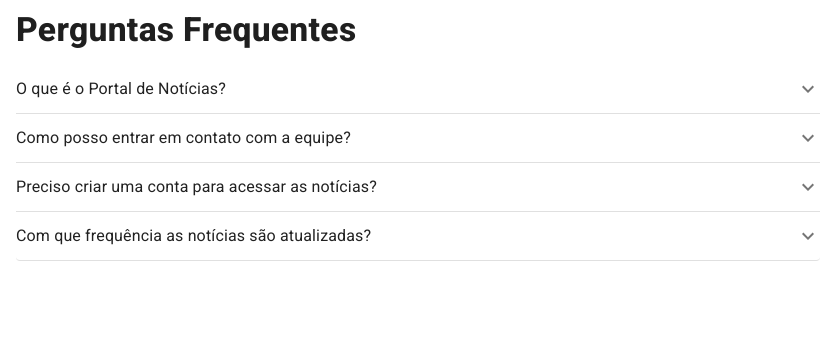
Test case: static pages › renders faq content and expands an answer
This screenshot has width=837, height=358.
What coordinates should you click on to do the following:
click the button "O que é o Portal de Notícias?"
I would click on:
 (121, 88)
Its box is [16,65,820,113].
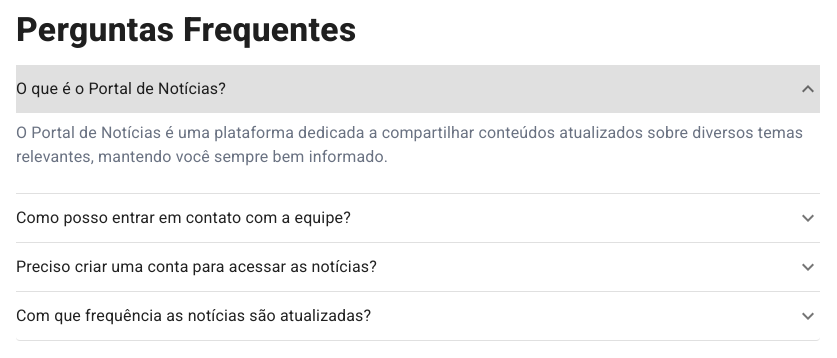
Expected: the text "O Portal de Not.cias . uma plataforma dedicada a compartilhar conte.dos atualizados" is shown, [16,123,803,166]
